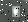person: (13, 7, 21, 18)
